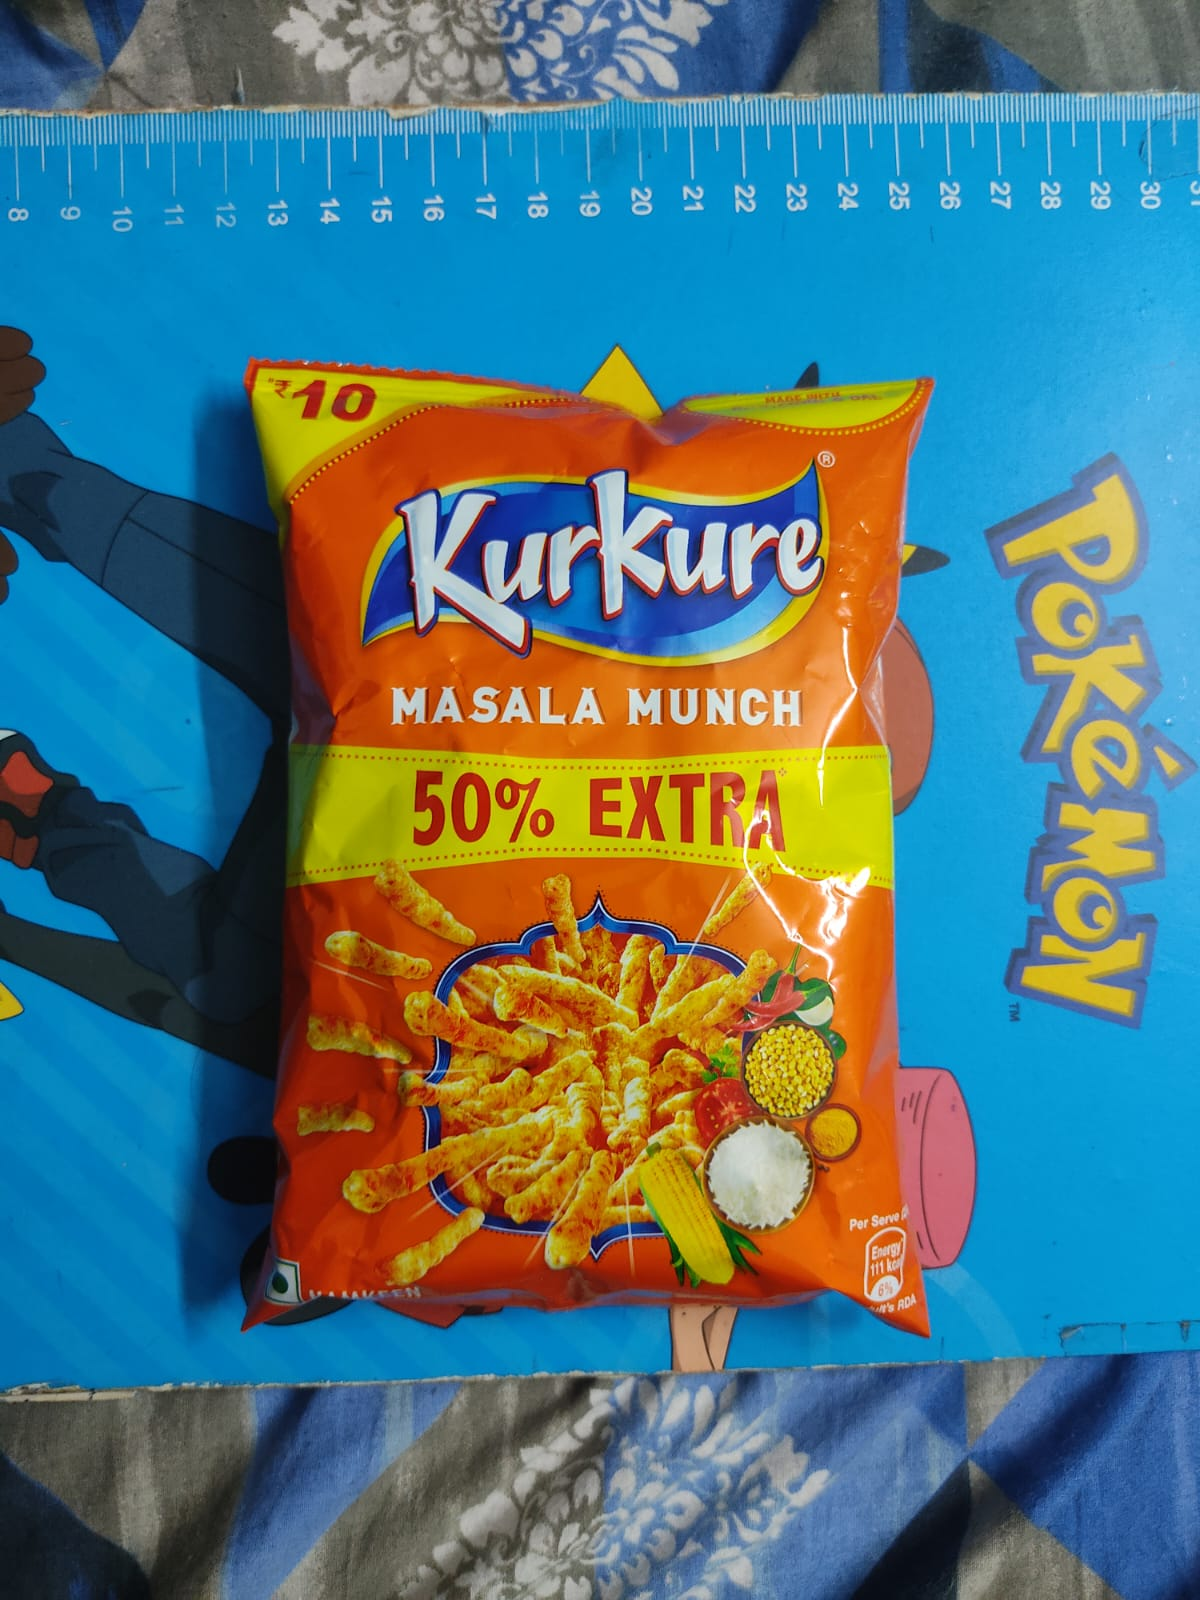010_Kurkure: (250, 367, 925, 1329)
